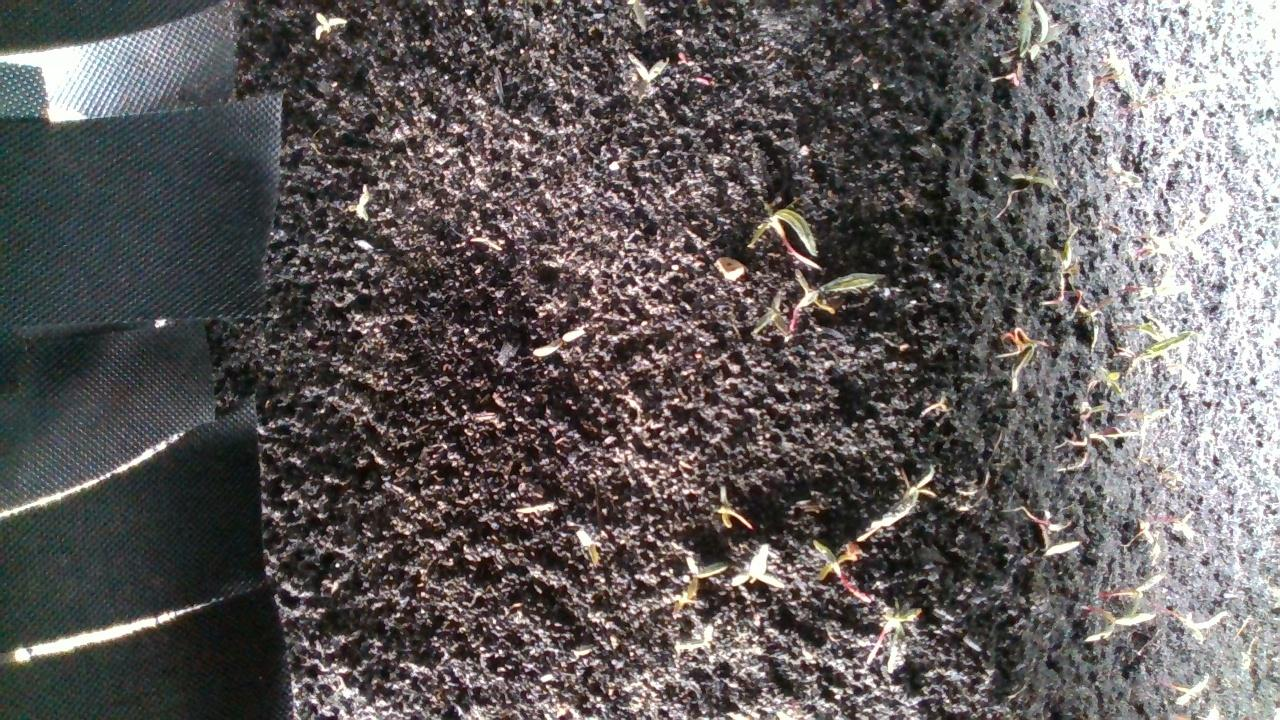weed: (1134, 509, 1190, 564), (304, 9, 345, 47), (615, 50, 652, 89), (343, 193, 379, 232)
